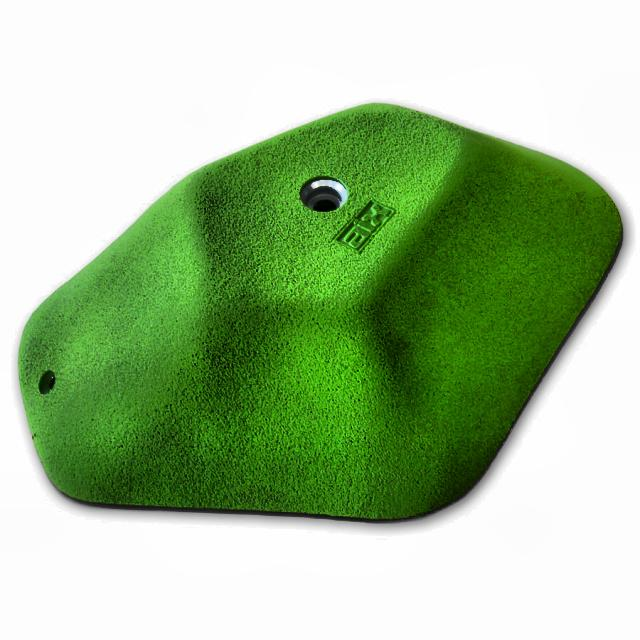Hold: (14, 103, 628, 524)
